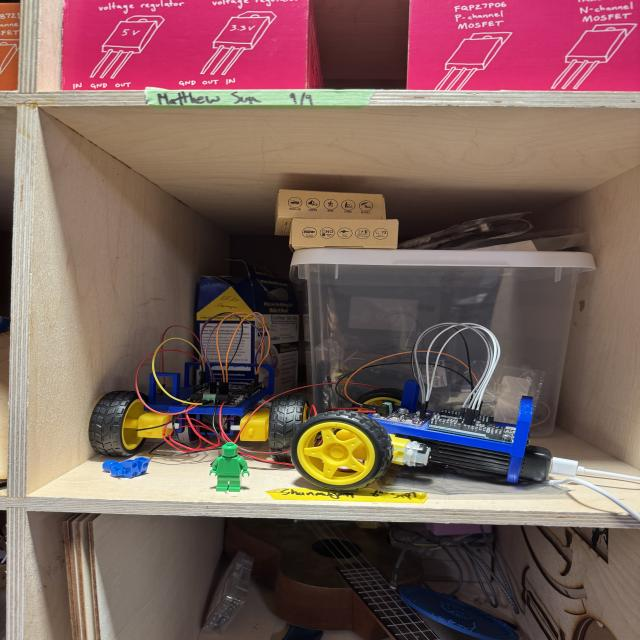Green Mini Figure: (210, 442, 249, 492)
